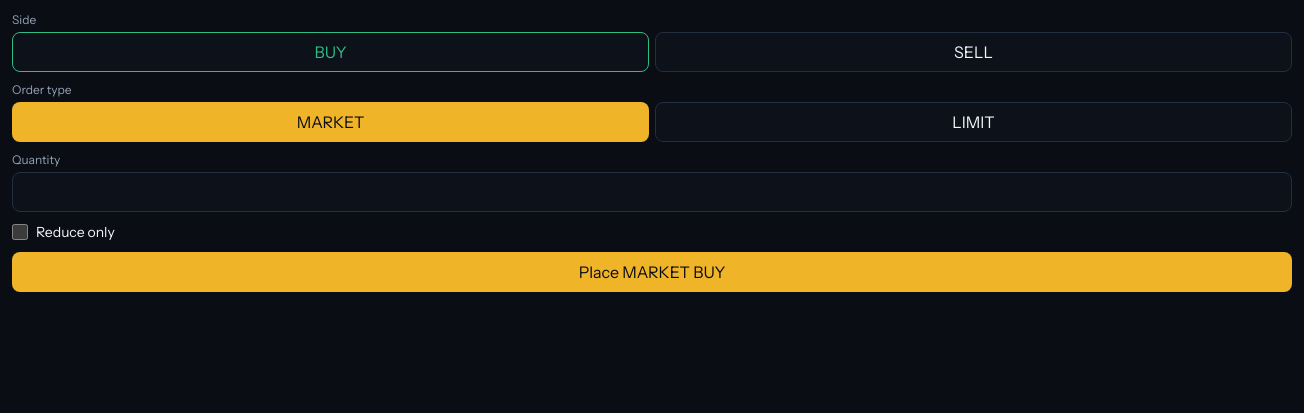
it: OrderForm › hides limit price for MARKET and requires it for LIMIT
Check: the field labelled "Limit price" is not shown
Click the button "LIMIT".
click(974, 122)  # box [655,102,1292,142]
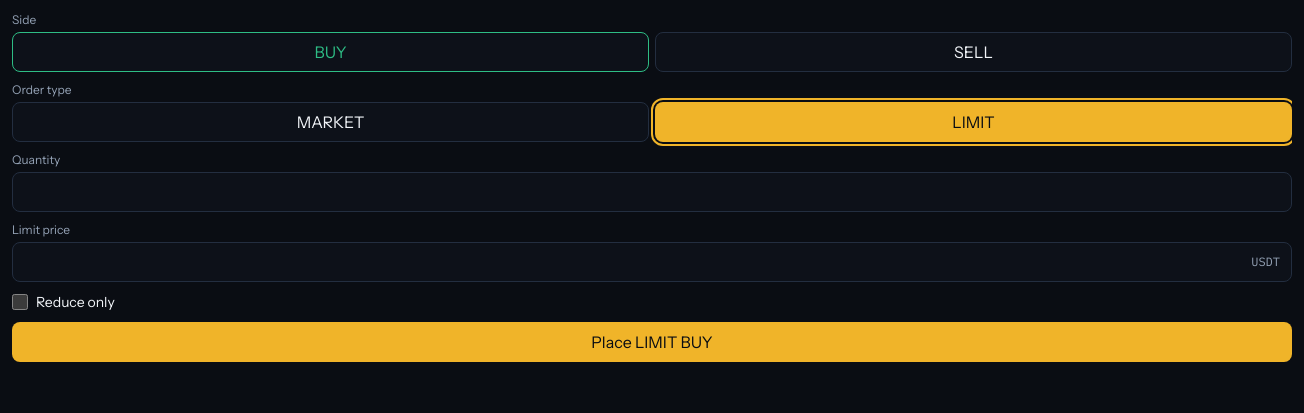
Check: the field labelled "Limit price" is shown, box [12,242,1292,282]
Type "0.001" into the field labelled "Quantity".
click(652, 192); type("0.001")  # box [12,172,1292,212]
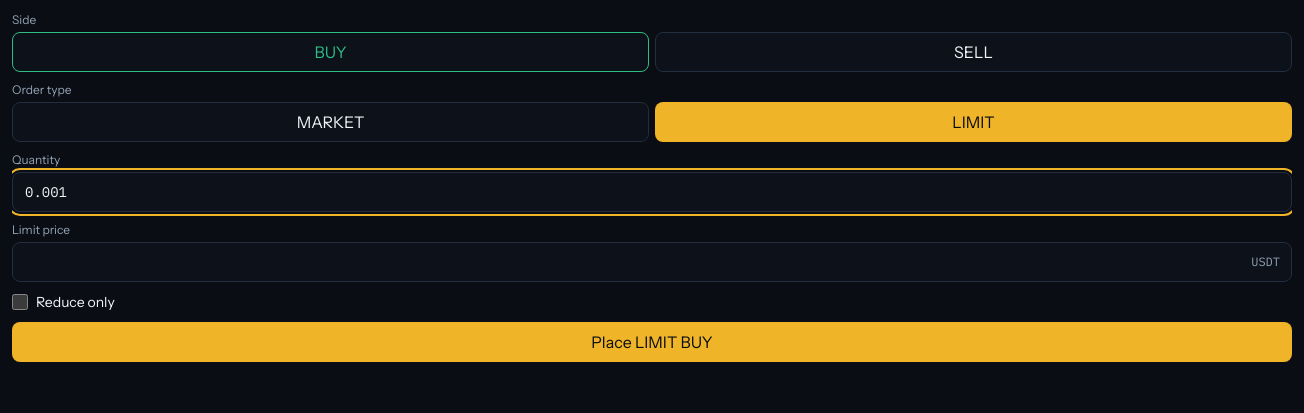
Click the button "Place LIMIT BUY".
click(652, 342)  # box [12,322,1292,362]
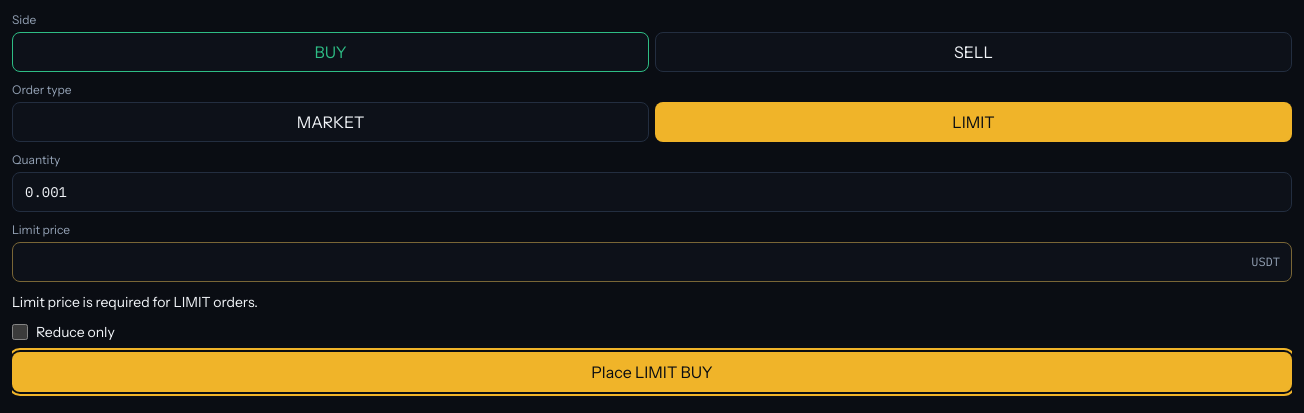
Check: the text "Limit price is required for LIMIT orders." is shown, box [12,293,258,311]
